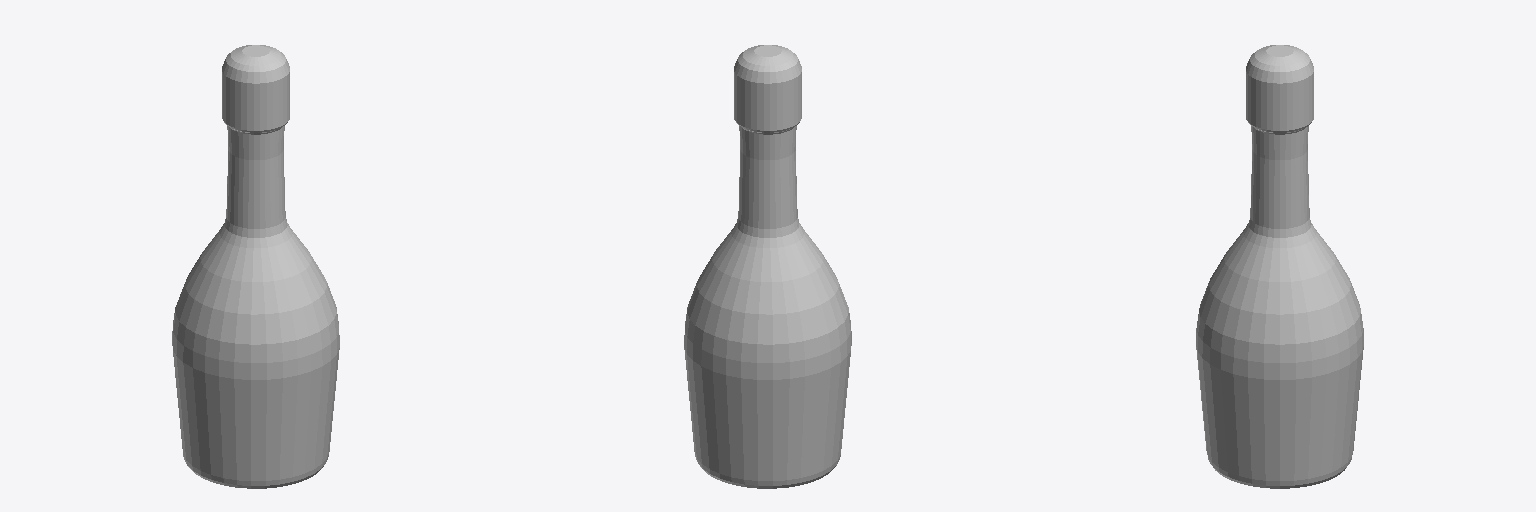
File: queen.obj
The picture shows the model from 3 angles: view 1: azimuth 30°, elevation 25°; view 2: azimuth 150°, elevation 25°; view 3: azimuth 270°, elevation 25°; orthographic projection.
Parts seen in each view (by area): view 1: Cylinder; view 2: Cylinder; view 3: Cylinder.
Boxes of the visible parts, <box> form: Cylinder: <box>172,45,339,488</box>; Cylinder: <box>684,45,851,488</box>; Cylinder: <box>1196,45,1363,488</box>.
Bounding box in the file's own units: 1.29 × 3.48 × 1.29.